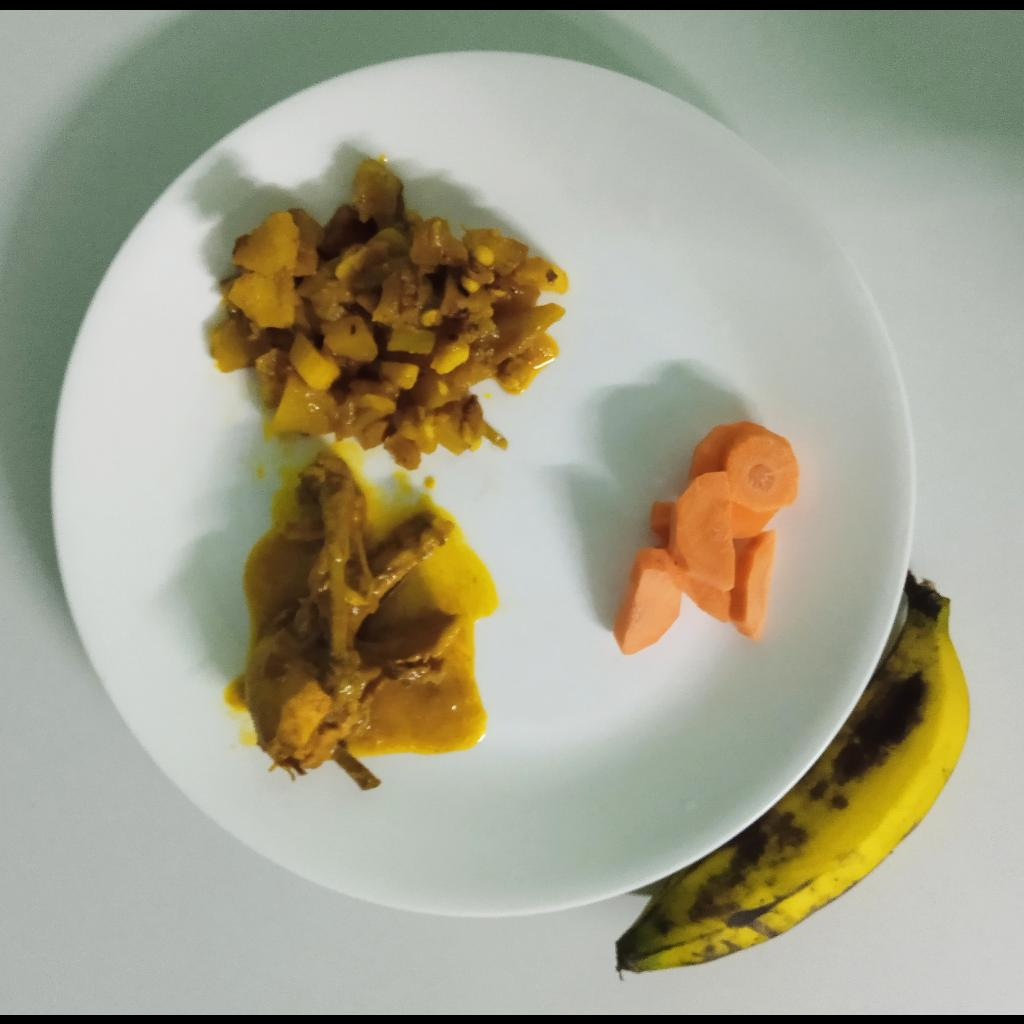banana: (618, 571, 975, 975)
carrot: (611, 420, 801, 656)
chicken: (246, 449, 464, 796)
kumra-vaji: (212, 160, 570, 473)
